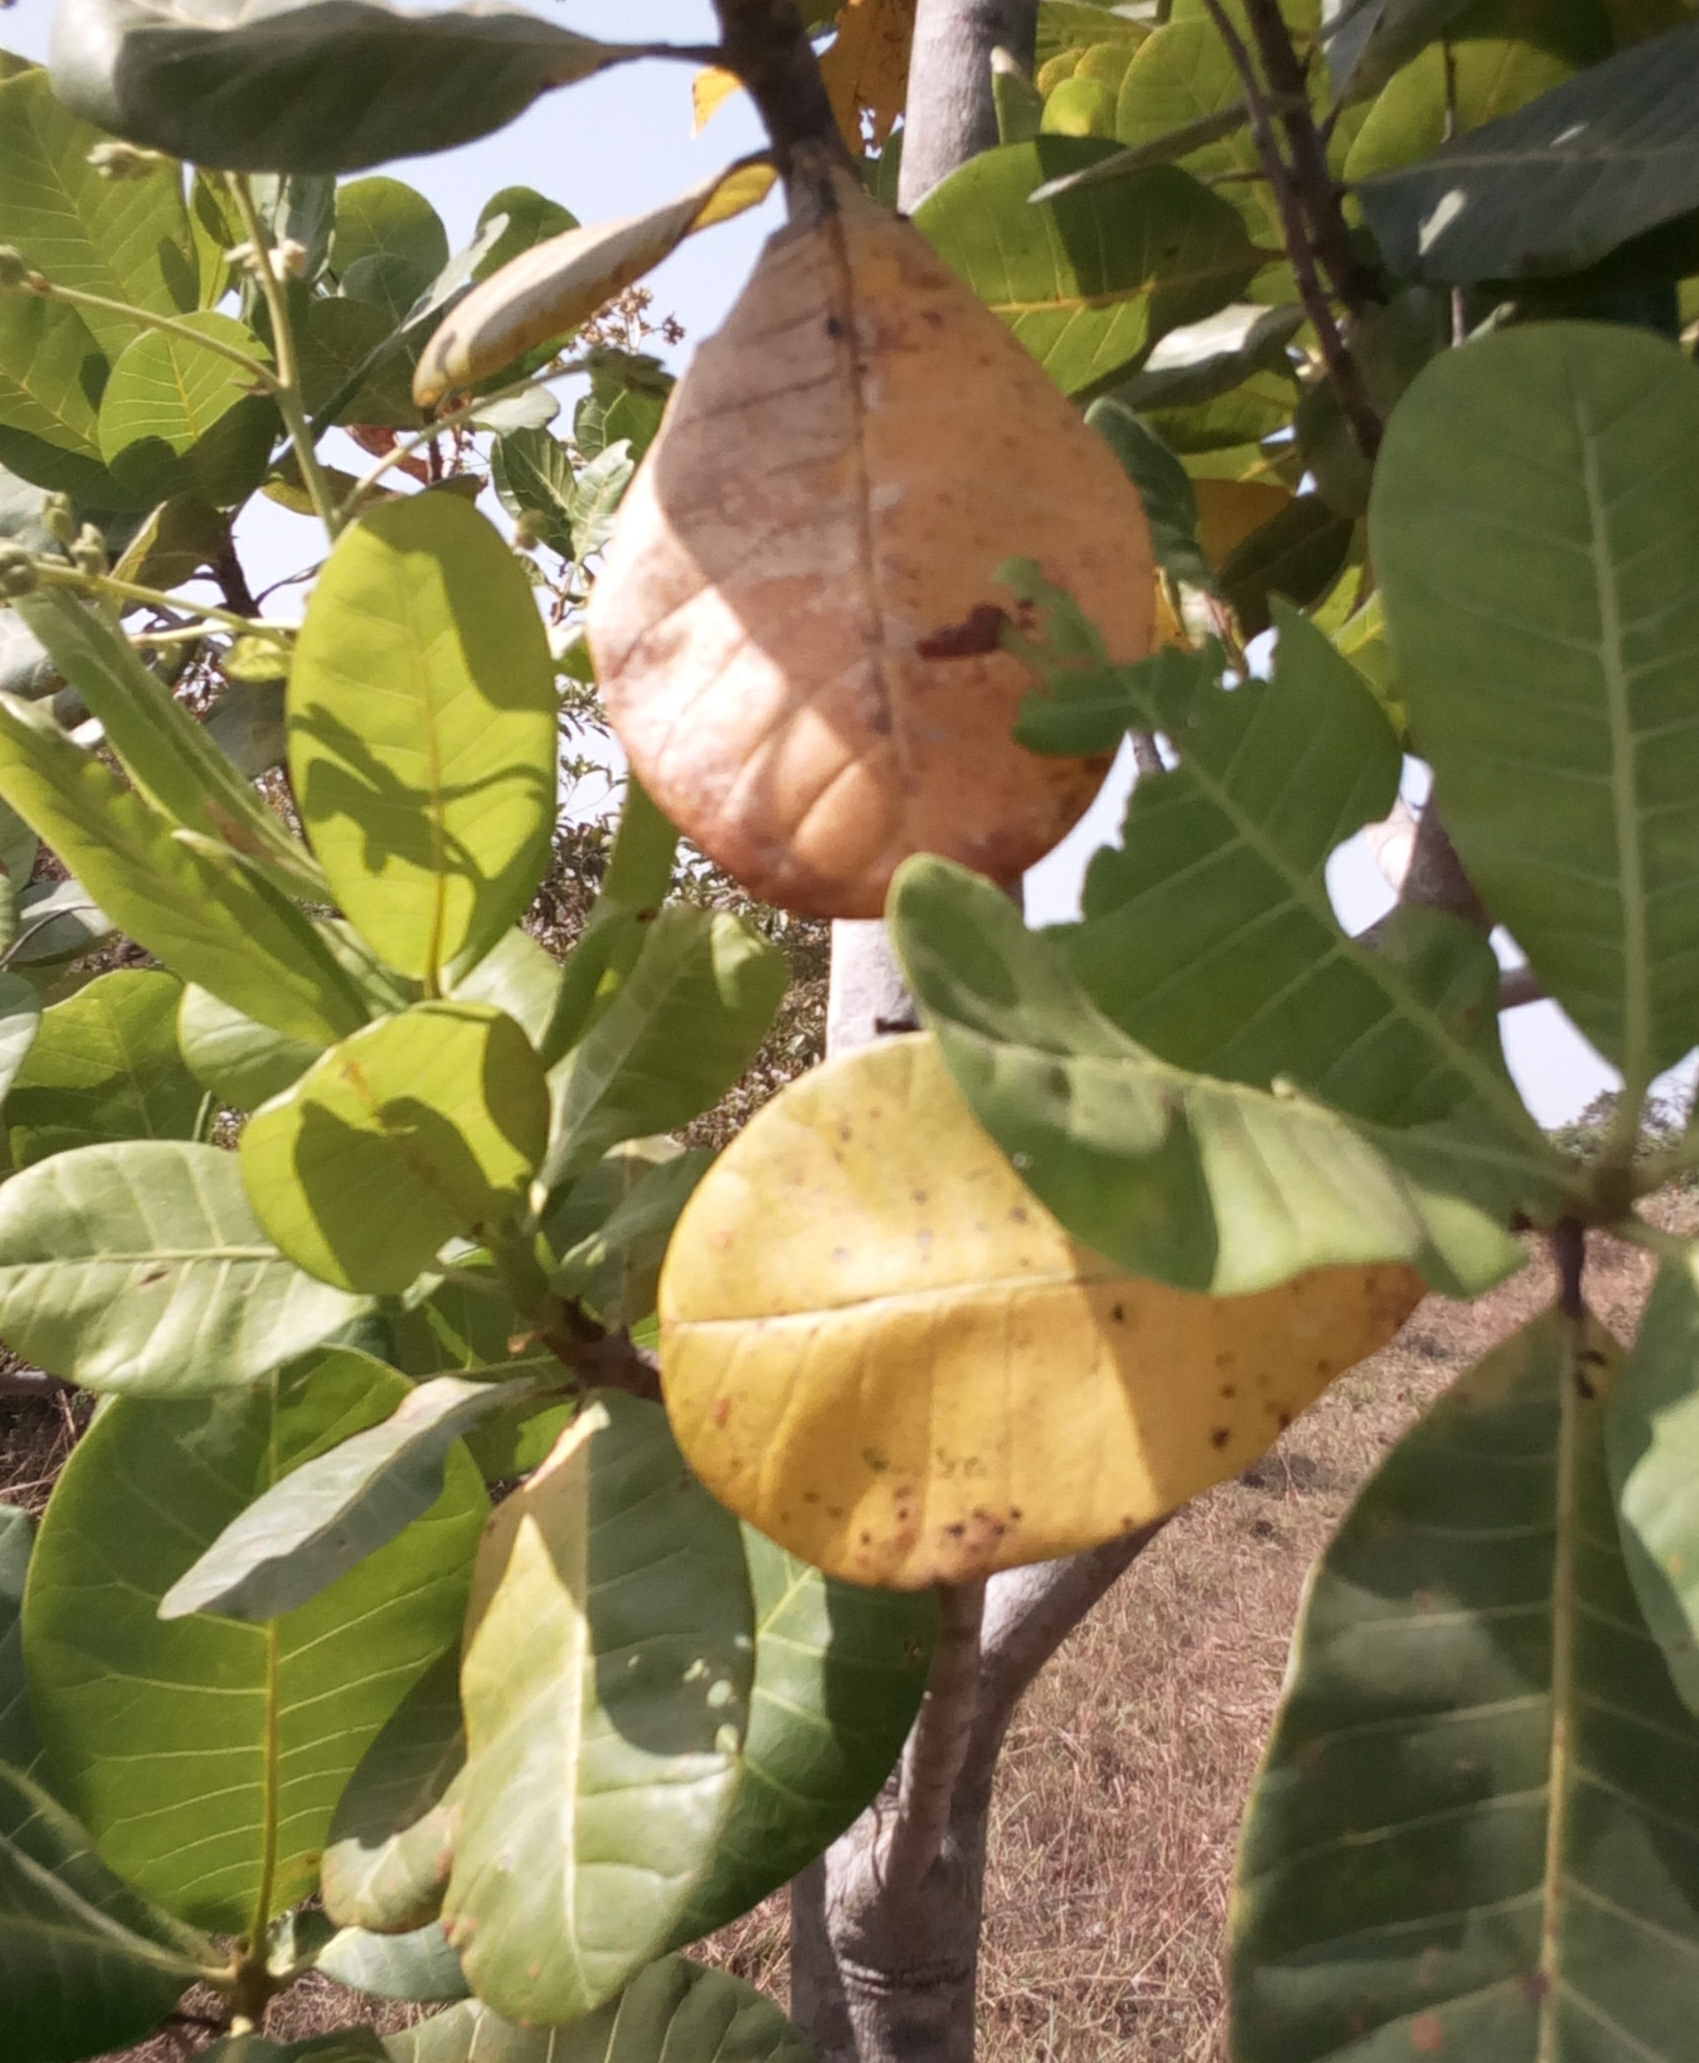Anthracnose: (653, 1294, 1410, 1578)
